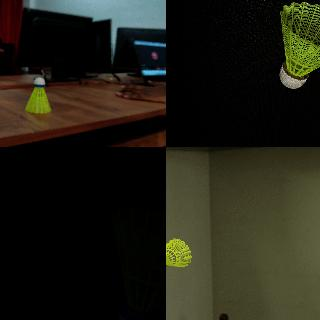shuttlecock: (109, 207, 165, 319), (279, 2, 319, 89), (24, 77, 52, 113), (166, 238, 192, 269)
